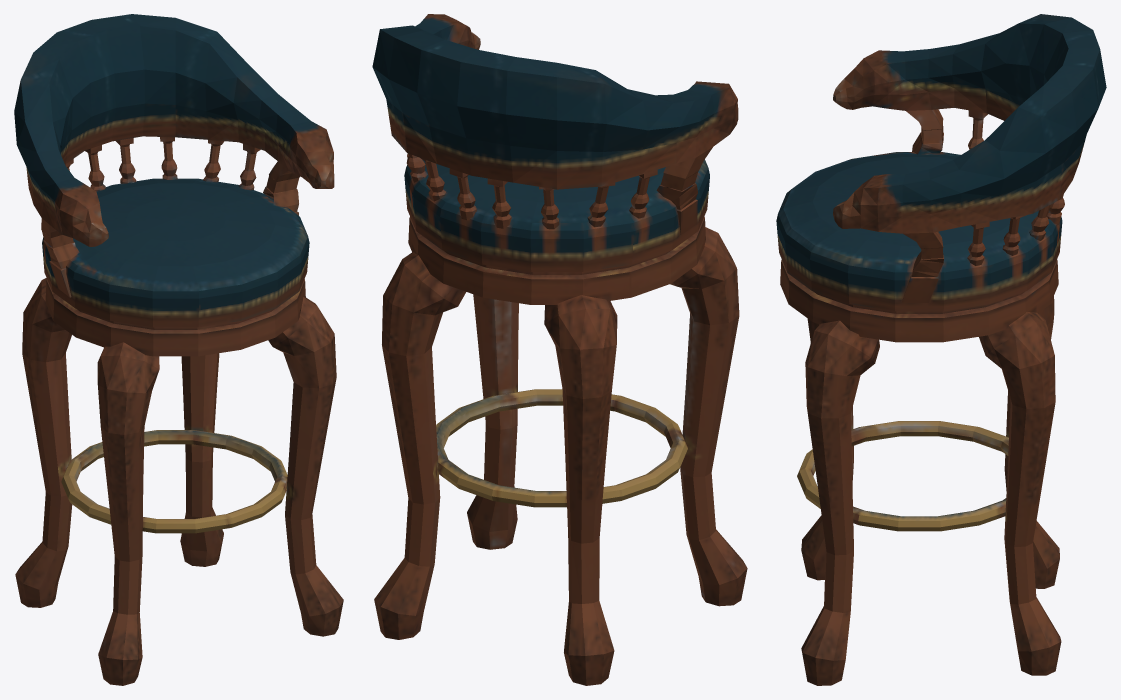
The model's file is StudyChair_Blue.fbx.
The picture shows the model from 3 angles, left to right: view 1: azimuth 30°, elevation 25°; view 2: azimuth 150°, elevation 25°; view 3: azimuth 270°, elevation 25°; orthographic projection. The views are drawn at different scales.
Parts seen in each view (by area): view 1: StudyChair_Blue_Low; view 2: StudyChair_Blue_Low; view 3: StudyChair_Blue_Low.
Boxes of the visible parts, x1,y1,x2,y2 form: StudyChair_Blue_Low: [14, 14, 343, 685]; StudyChair_Blue_Low: [372, 14, 747, 685]; StudyChair_Blue_Low: [776, 14, 1106, 685].
Size of the model in its own units: 0.6278 by 1.19 by 0.6187.
